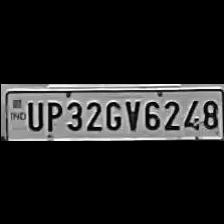2: (82, 97, 102, 131), (160, 96, 180, 130)
3: (62, 97, 82, 130)
4: (180, 95, 198, 129)
6: (140, 96, 160, 130)
8: (198, 96, 218, 128)
G: (102, 97, 120, 131)
P: (44, 97, 60, 131)
U: (22, 97, 42, 130)
V: (122, 96, 140, 132)
